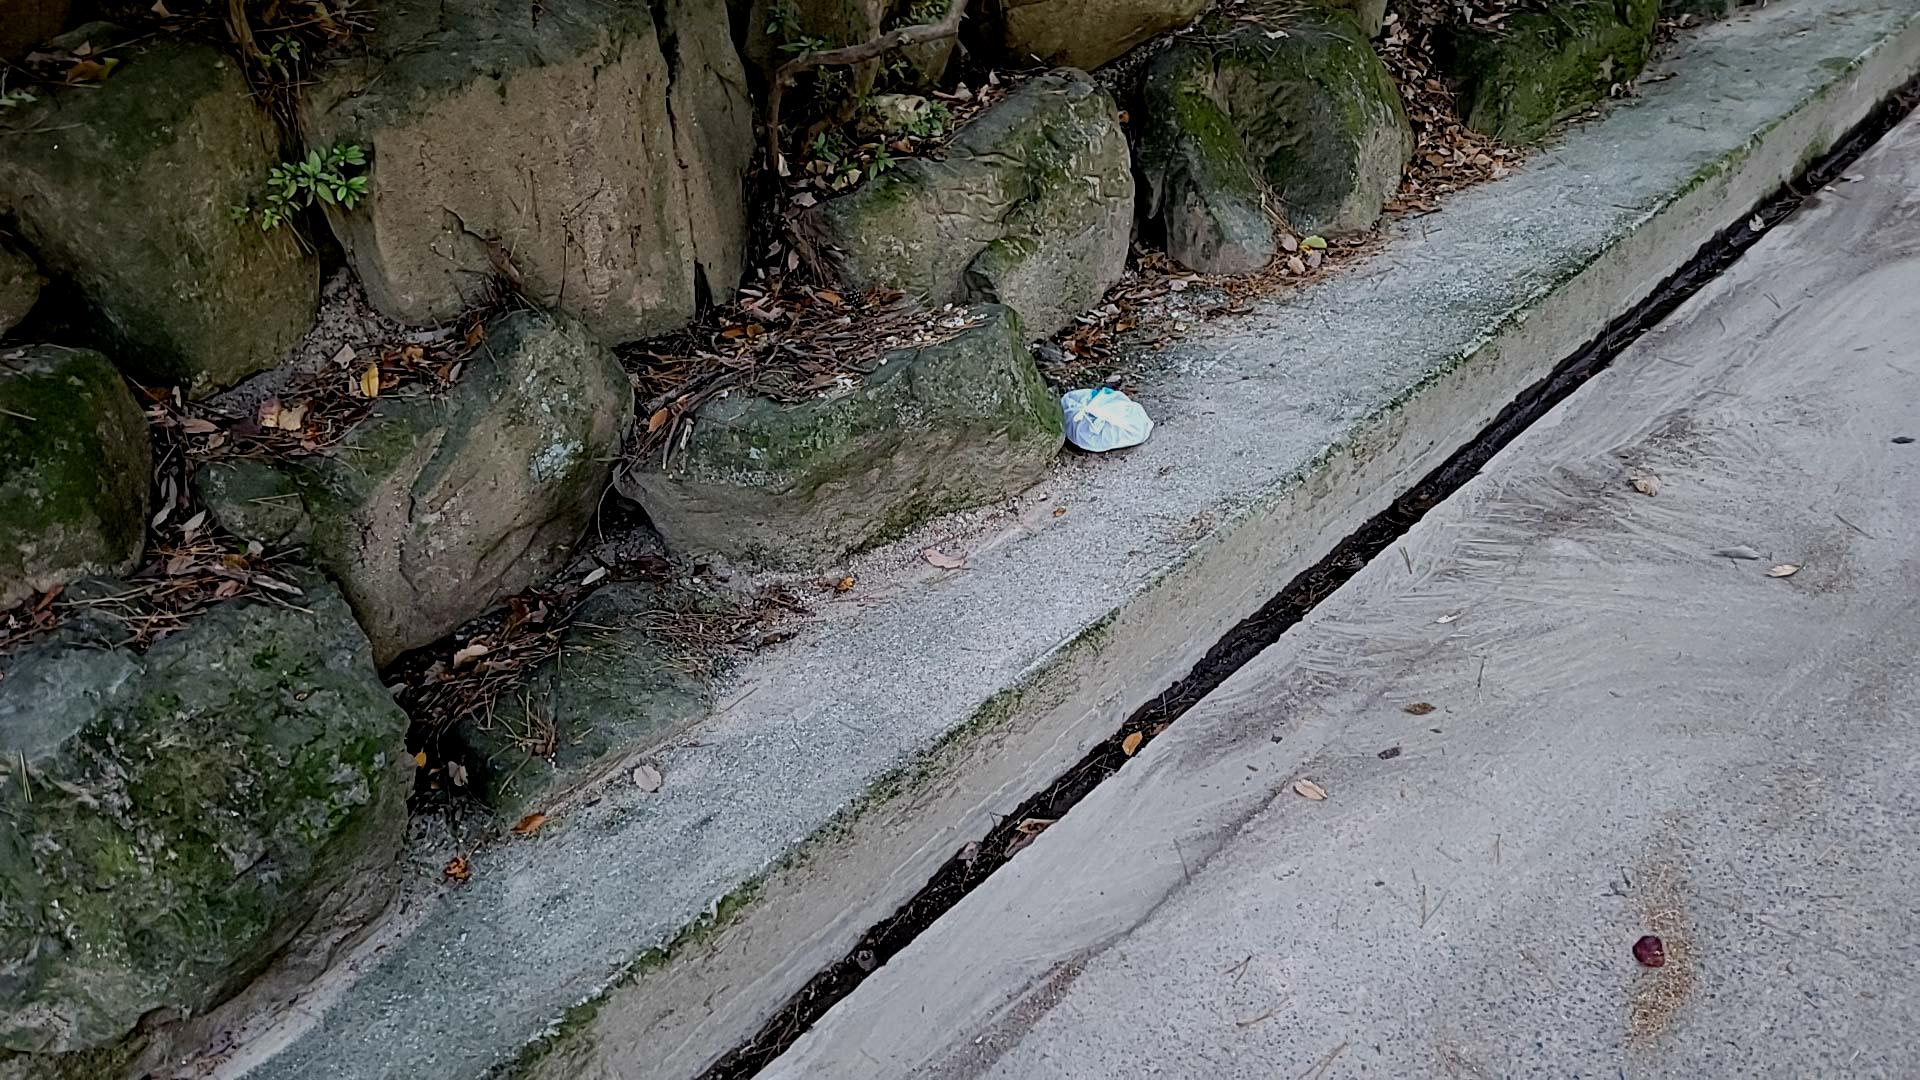white_bag: (1054, 378, 1156, 460)
